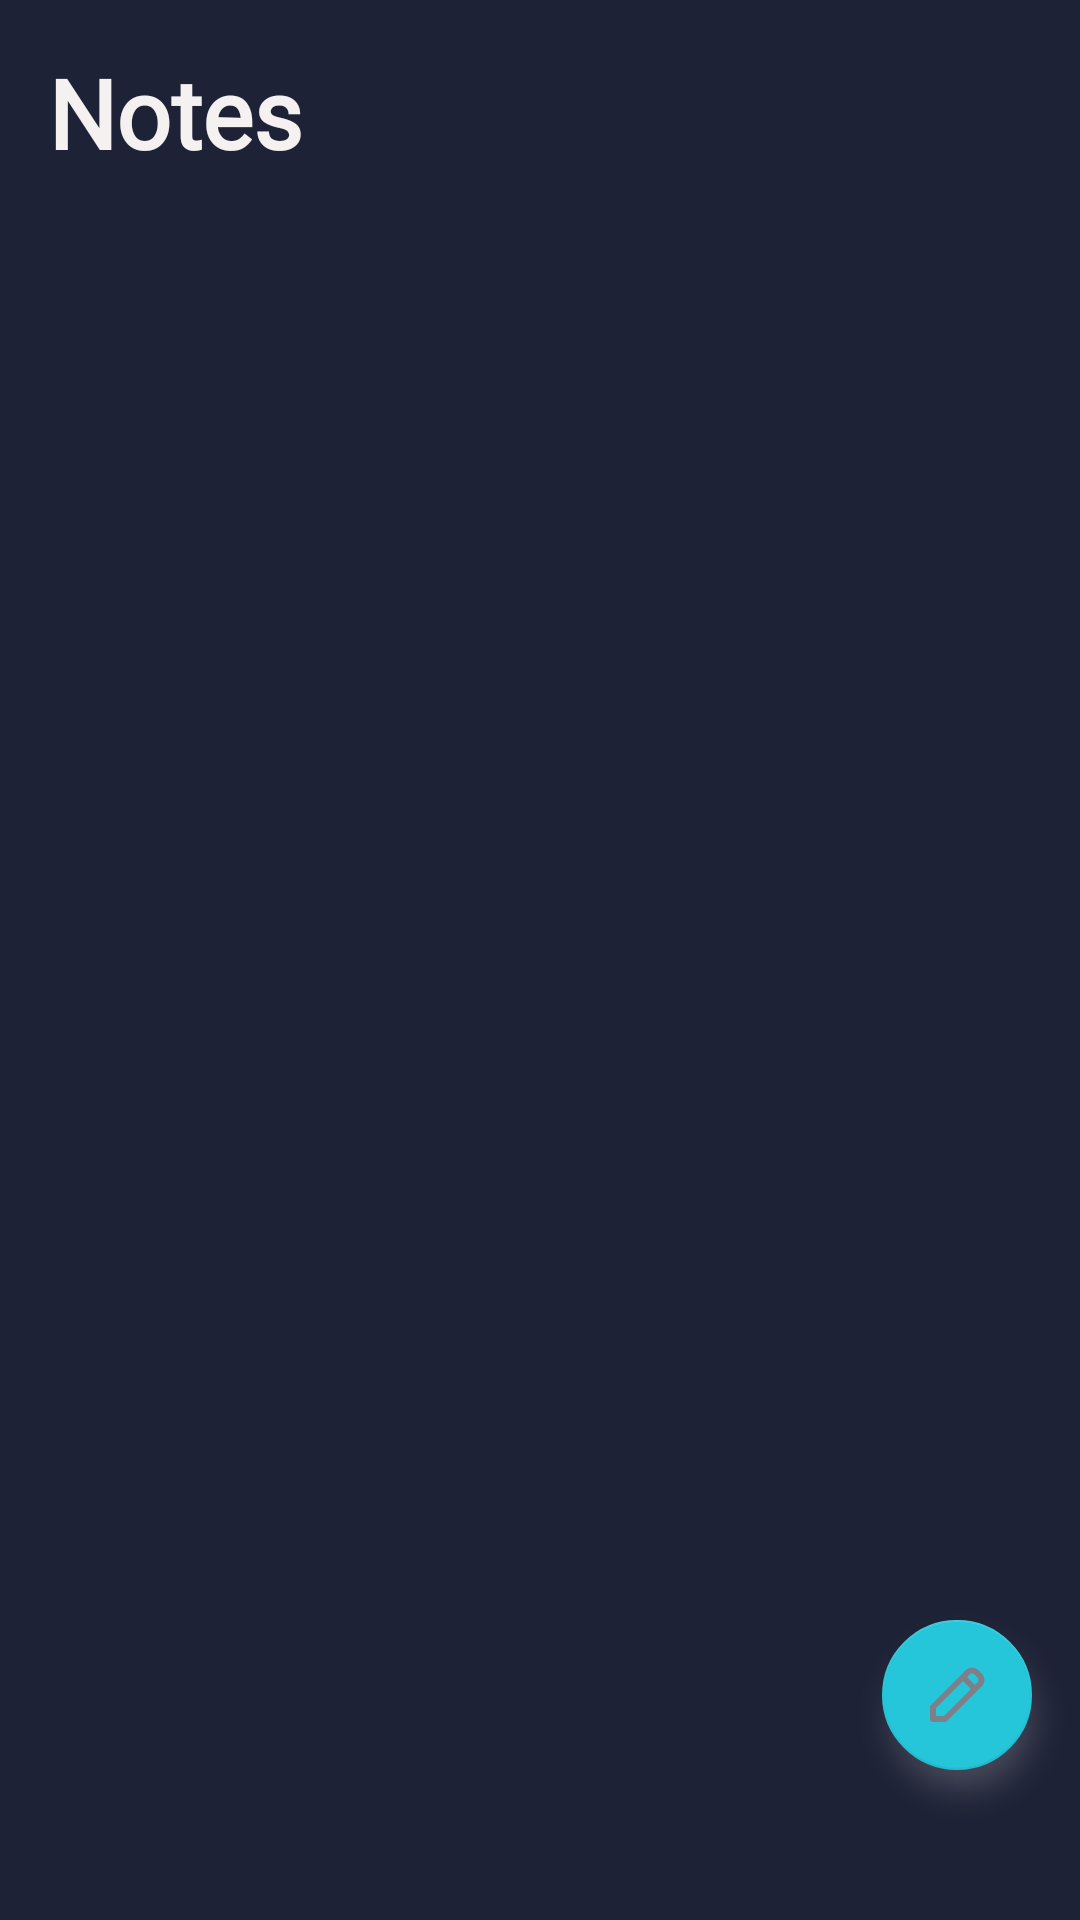

Icons on this 1080px x 1920px Android screen, each with the point to tap as (x=x, y=y):
addnote: (x=957, y=1695)
